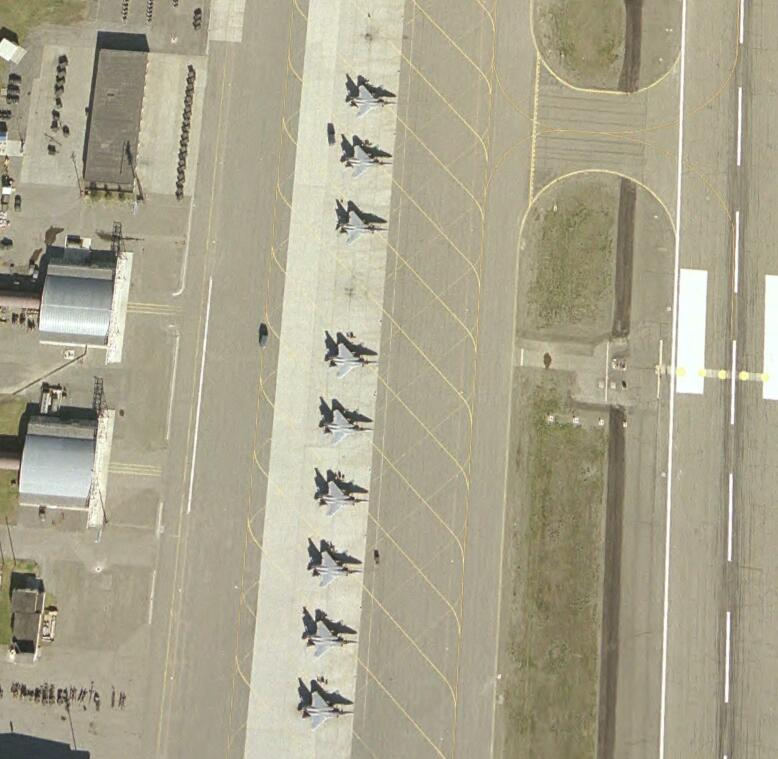A13: (297, 686, 355, 731), (309, 547, 364, 589), (302, 618, 357, 659), (320, 406, 377, 445), (326, 339, 382, 378), (316, 477, 370, 517), (335, 206, 390, 245), (340, 142, 395, 179), (345, 81, 398, 119)
